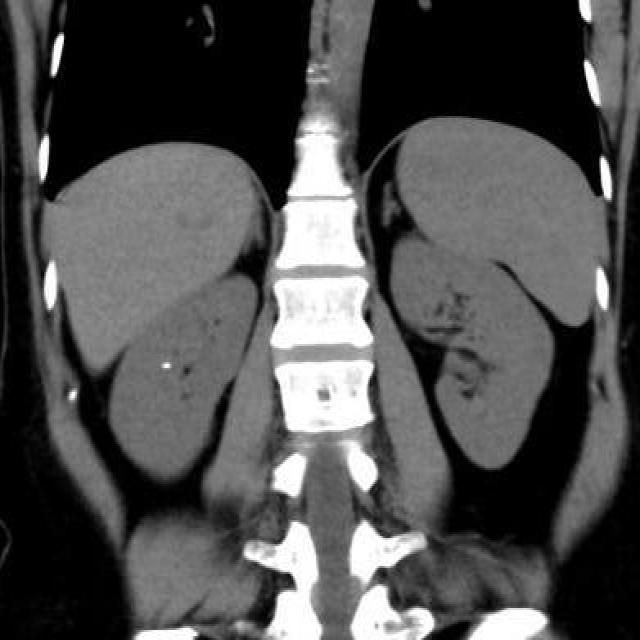Tas_Var: (160, 358, 172, 374)
